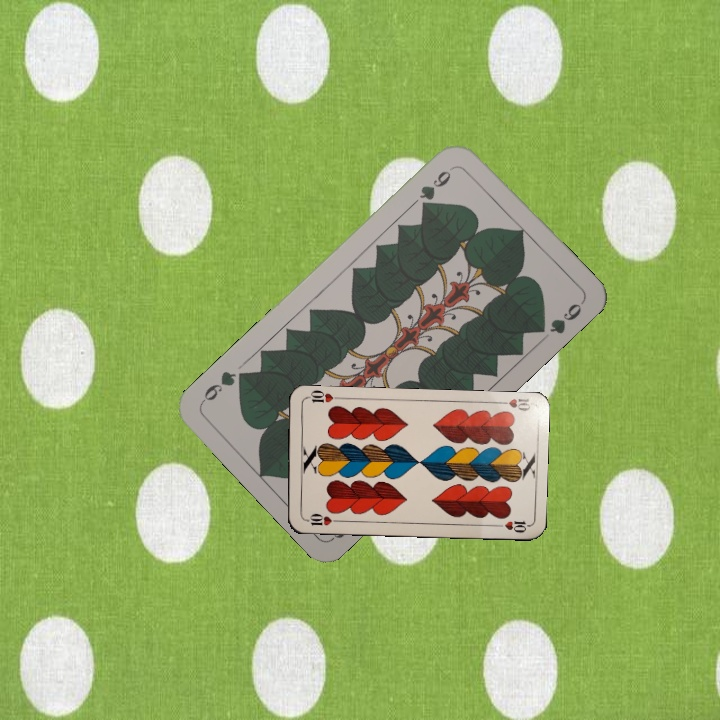G9: (415, 162, 458, 212)
H10: (493, 395, 533, 415), (301, 509, 341, 528)
